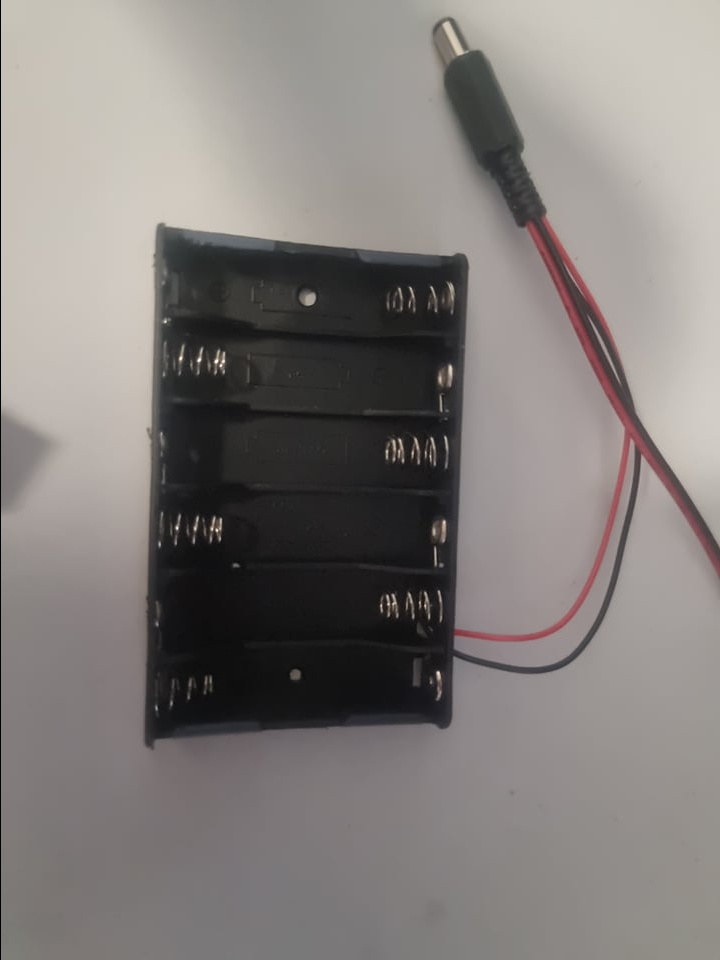BATTERY BOX: (141, 222, 469, 746)
